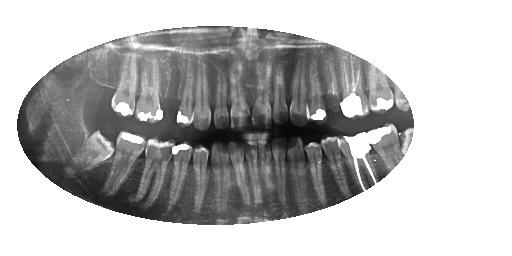Cavity: (246, 49, 274, 129), (267, 137, 290, 217), (287, 135, 310, 214), (228, 52, 250, 130), (228, 140, 253, 205), (242, 140, 265, 208), (270, 50, 290, 127), (289, 50, 308, 127), (213, 58, 231, 131), (259, 141, 278, 207)
Fillings: (127, 135, 175, 211), (161, 139, 192, 213), (134, 50, 165, 123), (319, 135, 354, 199), (304, 139, 333, 208), (111, 47, 139, 117), (115, 131, 147, 190), (306, 51, 327, 128), (175, 53, 196, 130), (371, 124, 405, 170), (192, 145, 211, 220), (369, 63, 396, 115), (136, 117, 138, 117)
Impacted Tooth: (63, 128, 116, 178)
Implant: (343, 130, 380, 191), (336, 53, 369, 121)
